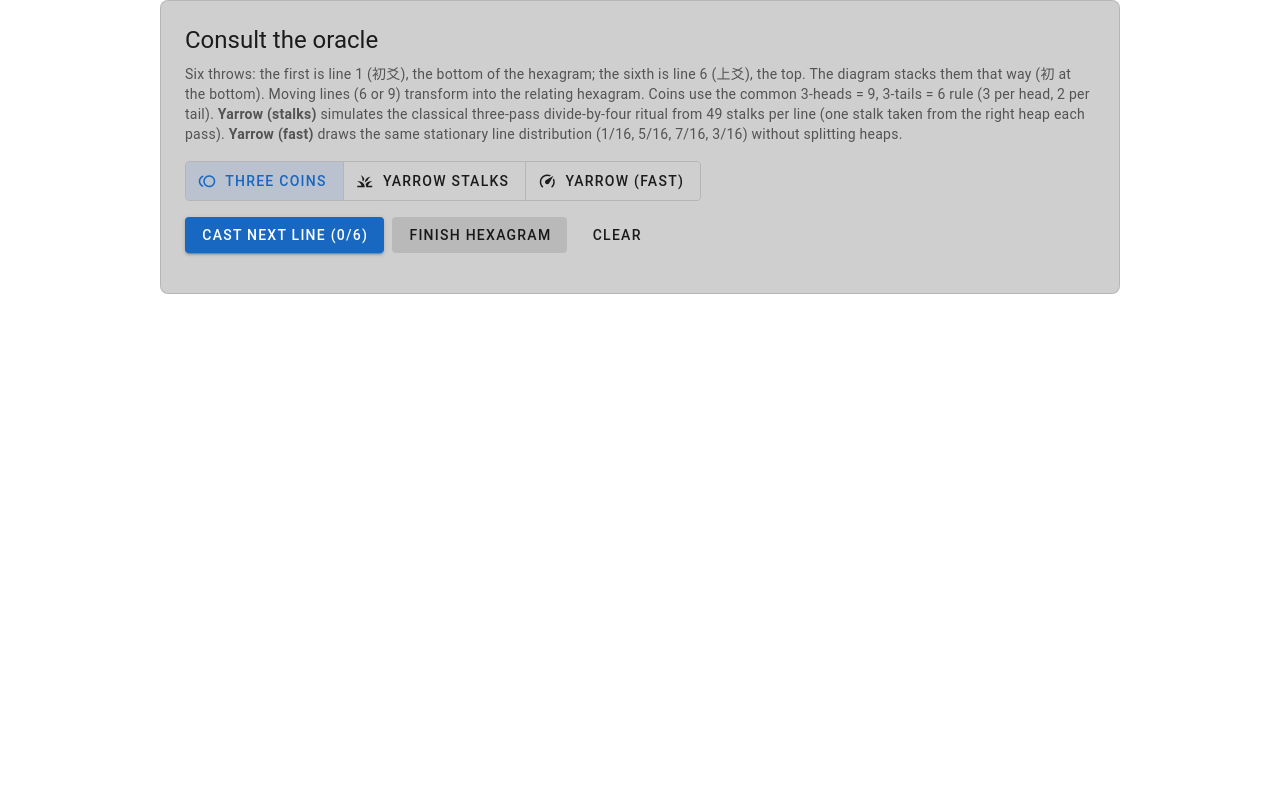
IChingOracle.vue (smoke) › casts six coin lines and shows primary hexagram
The width and height of the screenshot is (1280, 800).
What coordinates should you click on to do the following:
click the button "Finish hexagram"
I would click on:
 (480, 235)
Its box is [392, 217, 567, 253].
(page scrolled)
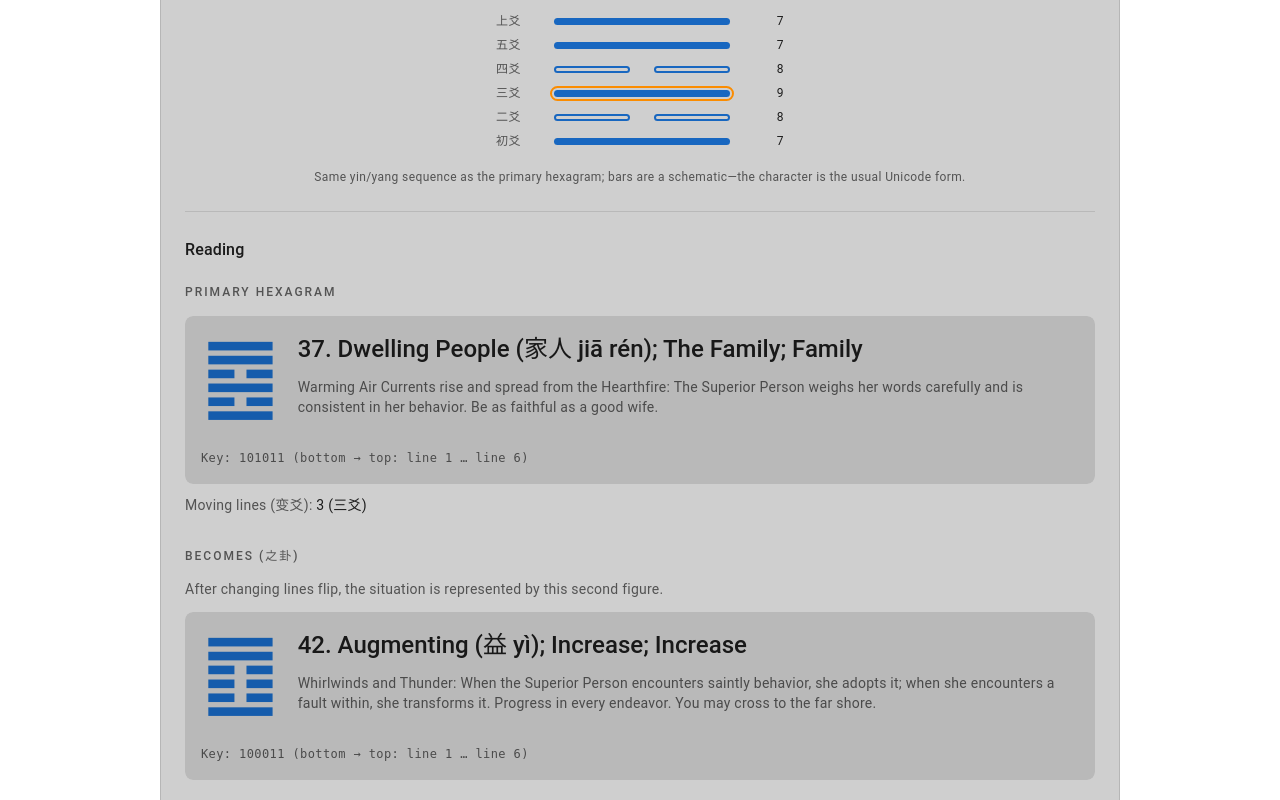
Now the text "primary hexagram" is shown, box [314, 170, 966, 184]
Now the 1st element with class "hex-panel" is shown, box [185, 316, 1095, 484]
